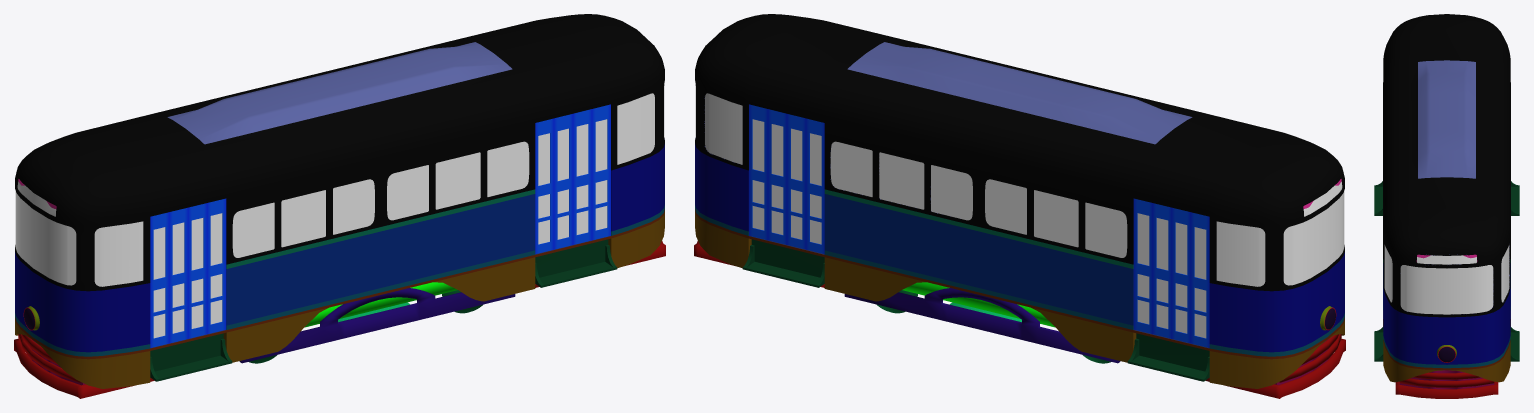
The model's file is Tram_Car.FBX.
3 renders of one model, left to right at view 1: azimuth 30°, elevation 25°; view 2: azimuth 150°, elevation 25°; view 3: azimuth 270°, elevation 25°, orthographic. The views are drawn at different scales.
Visible parts, largest first — view 1: Type_F_Low_Poly_Exterior_IntShellMaker_Fix, Tram_Glass_Exterior_Side002, UnderCarriage_Front, Tram_Glass_Exterior_Back, Door_Panel_A, Door_Panel_C, Door_Panel_B, Door_Panel_D, Door_Panel_D012, Door_Panel_B012, Door_Panel_A012, Door_Panel_C012; view 2: Type_F_Low_Poly_Exterior_IntShellMaker_Fix, Tram_Glass_Exterior_Side1, UnderCarriage_Back, Tram_Glass_Exterior_Back, Door_Panel_D013, Door_Panel_B013, Door_Panel_C013, Door_Panel_A013, Door_Panel_A014, Door_Panel_C014, Door_Panel_B014, Door_Panel_D014 (+1 smaller); view 3: Type_F_Low_Poly_Exterior_IntShellMaker_Fix, Tram_Glass_Exterior_Front, UnderCarriage_Back, Tram_Glass_Exterior_Side1, Tram_Glass_Exterior_Side002, Front_Lamp001.
Part boxes in pixels (x1,y1,x2,y2): Type_F_Low_Poly_Exterior_IntShellMaker_Fix: (15,14,664,388); Tram_Glass_Exterior_Side002: (94,93,654,286); UnderCarriage_Front: (14,282,515,398); Tram_Glass_Exterior_Back: (15,181,76,285); Door_Panel_A: (150,212,169,347); Door_Panel_C: (188,203,207,338); Door_Panel_B: (169,207,188,343); Door_Panel_D: (207,198,226,334); Door_Panel_D012: (592,104,610,240); Door_Panel_B012: (554,114,572,249); Door_Panel_A012: (535,118,553,254); Door_Panel_C012: (573,109,591,244); Type_F_Low_Poly_Exterior_IntShellMaker_Fix: (695,14,1344,388); Tram_Glass_Exterior_Side1: (705,93,1265,286); UnderCarriage_Back: (694,241,1120,363); Tram_Glass_Exterior_Back: (1283,181,1344,285); Door_Panel_D013: (1190,212,1209,347); Door_Panel_B013: (1152,203,1171,338); Door_Panel_C013: (1171,207,1190,343); Door_Panel_A013: (1133,198,1152,334); Door_Panel_A014: (749,104,767,240); Door_Panel_C014: (787,114,805,249); Door_Panel_B014: (768,109,786,244); Door_Panel_D014: (806,118,824,254); Type_F_Low_Poly_Exterior_IntShellMaker_Fix: (1374,14,1519,382); Tram_Glass_Exterior_Front: (1400,255,1493,314); UnderCarriage_Back: (1395,370,1498,398); Tram_Glass_Exterior_Side1: (1501,245,1509,302); Tram_Glass_Exterior_Side002: (1384,245,1392,302); Front_Lamp001: (1437,345,1456,362).
Bounding box in the file's own units: 9.82 × 3.56 × 2.55.
